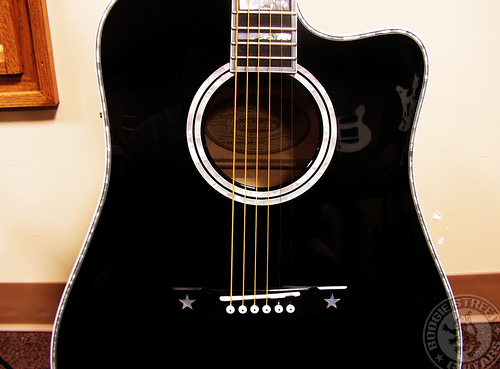guitar: (50, 1, 463, 369)
